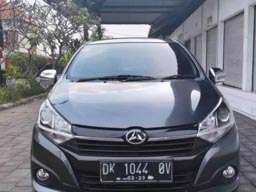plat: (99, 161, 172, 175)
